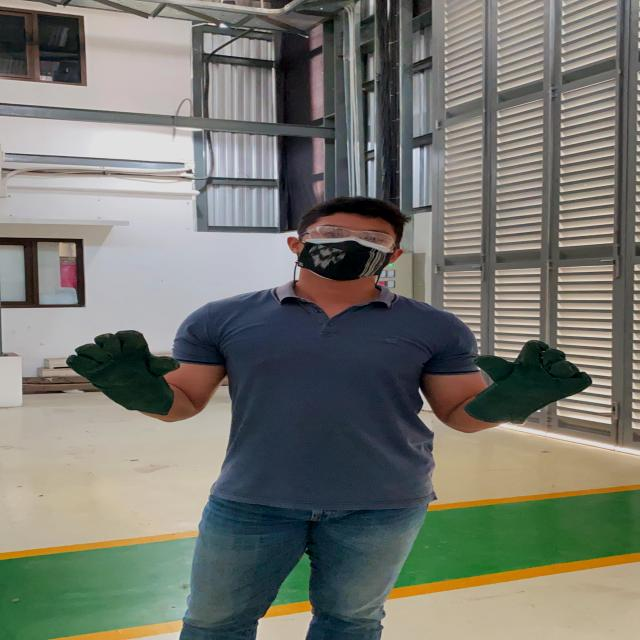face_mask: (299, 225, 399, 280)
glasses: (292, 223, 400, 250)
hand_glove: (54, 324, 195, 397), (466, 336, 602, 409)
head_nohelmet: (301, 194, 414, 230)
person: (130, 195, 534, 640)
